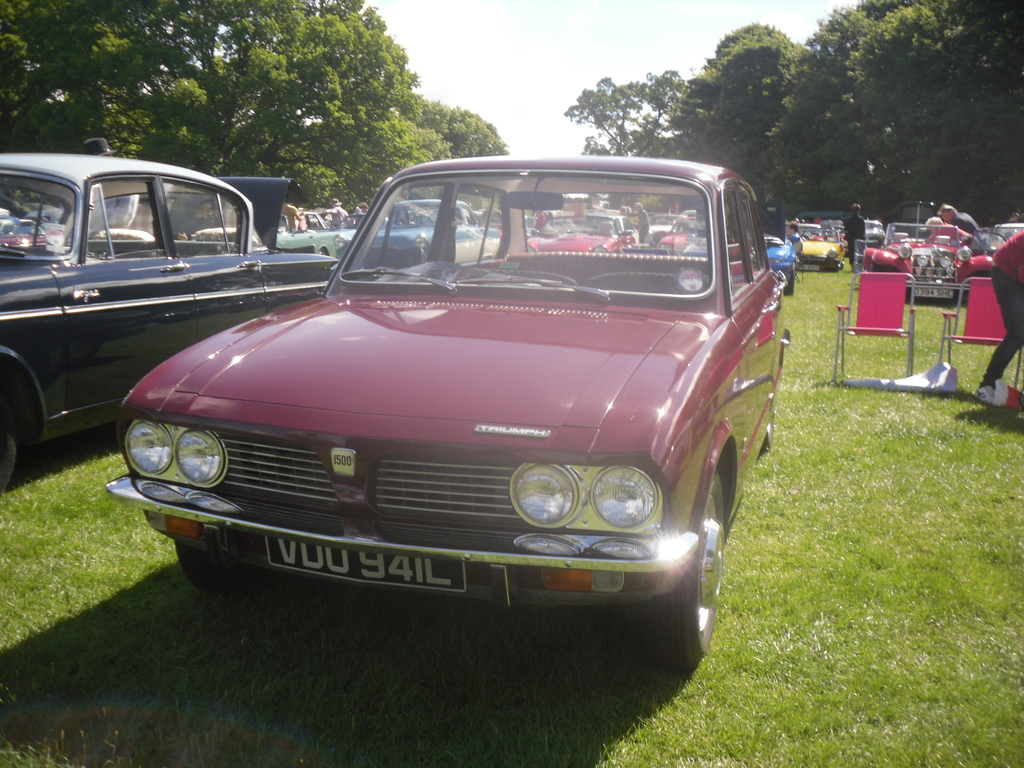Car: (96, 148, 792, 672), (0, 148, 346, 492), (874, 201, 1008, 309), (359, 188, 498, 277), (239, 205, 350, 259), (782, 218, 853, 273), (858, 211, 887, 243), (988, 214, 1023, 238)
